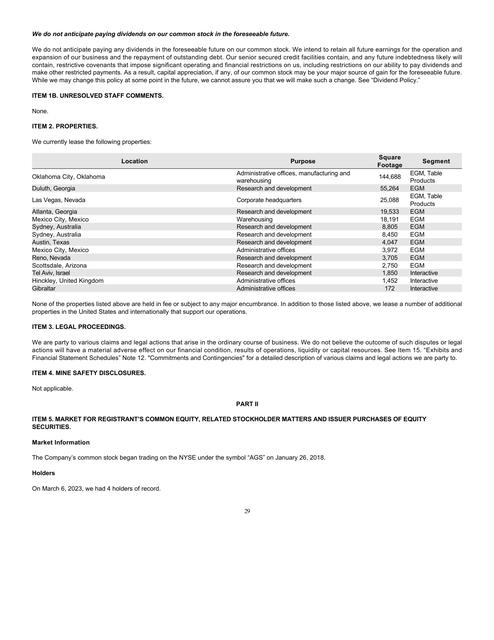box: (30, 152, 460, 295)
